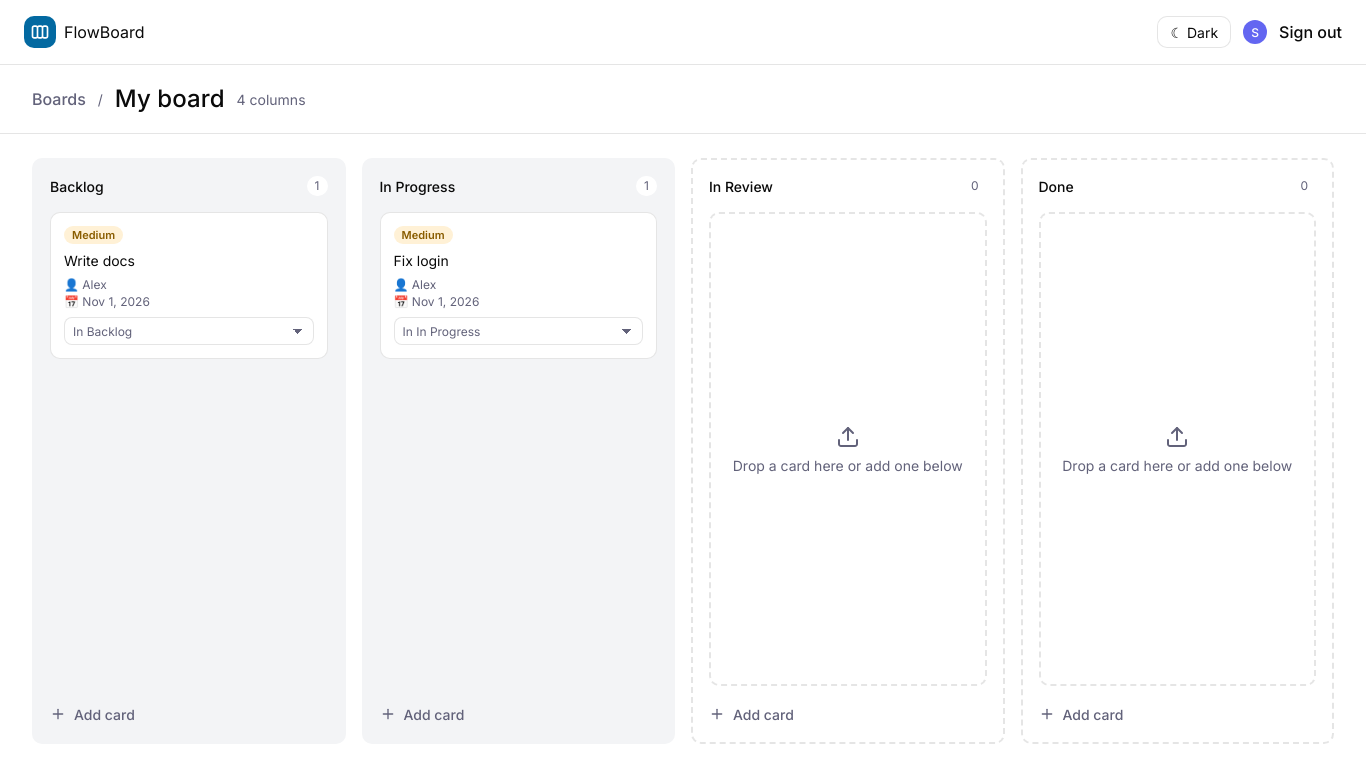
it: board › edits a card
Expected: the heading "My board" is shown, [115,81,225,117]
Click the button "Write docs". click: click(189, 260)
box: [64,252,314,269]
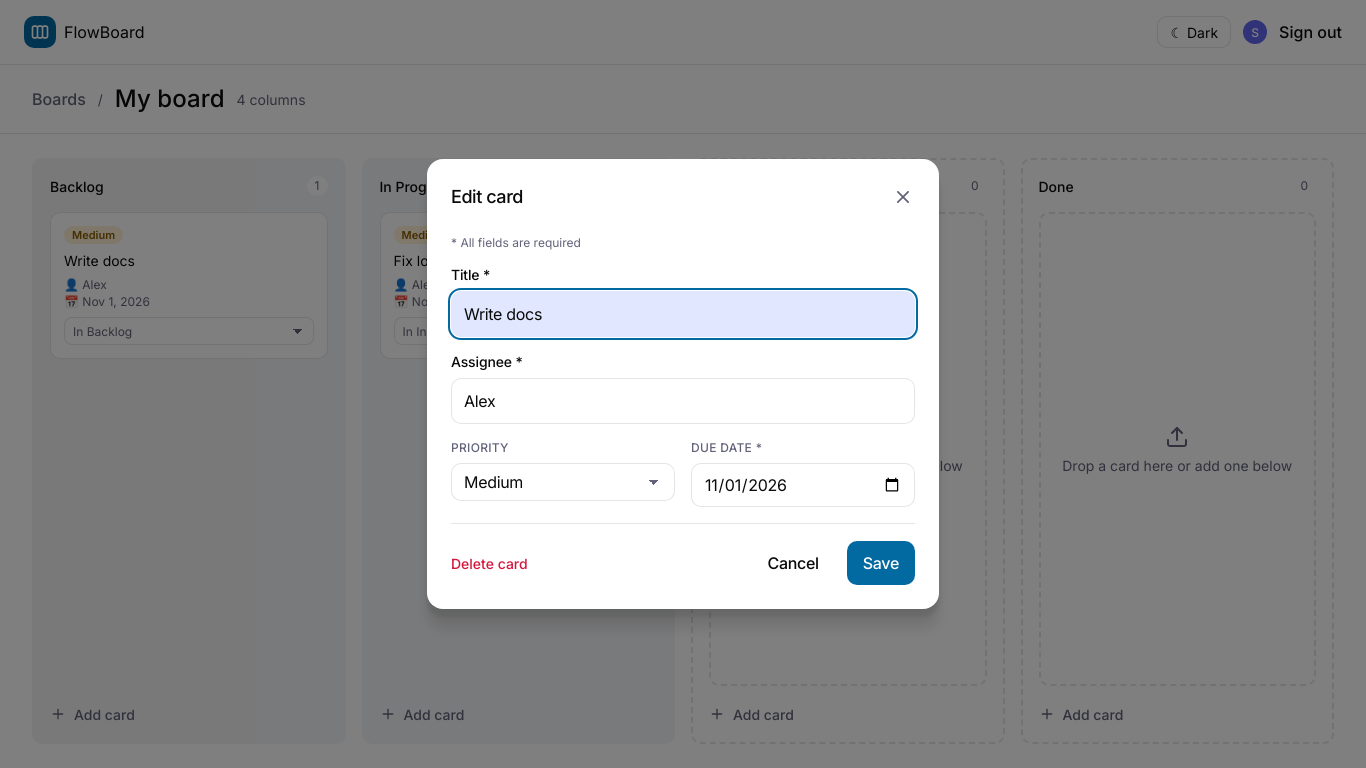
Replace the text in the field labelled "Title *" with "Write better docs". click: (683, 314)
box: [451,291,915,337]
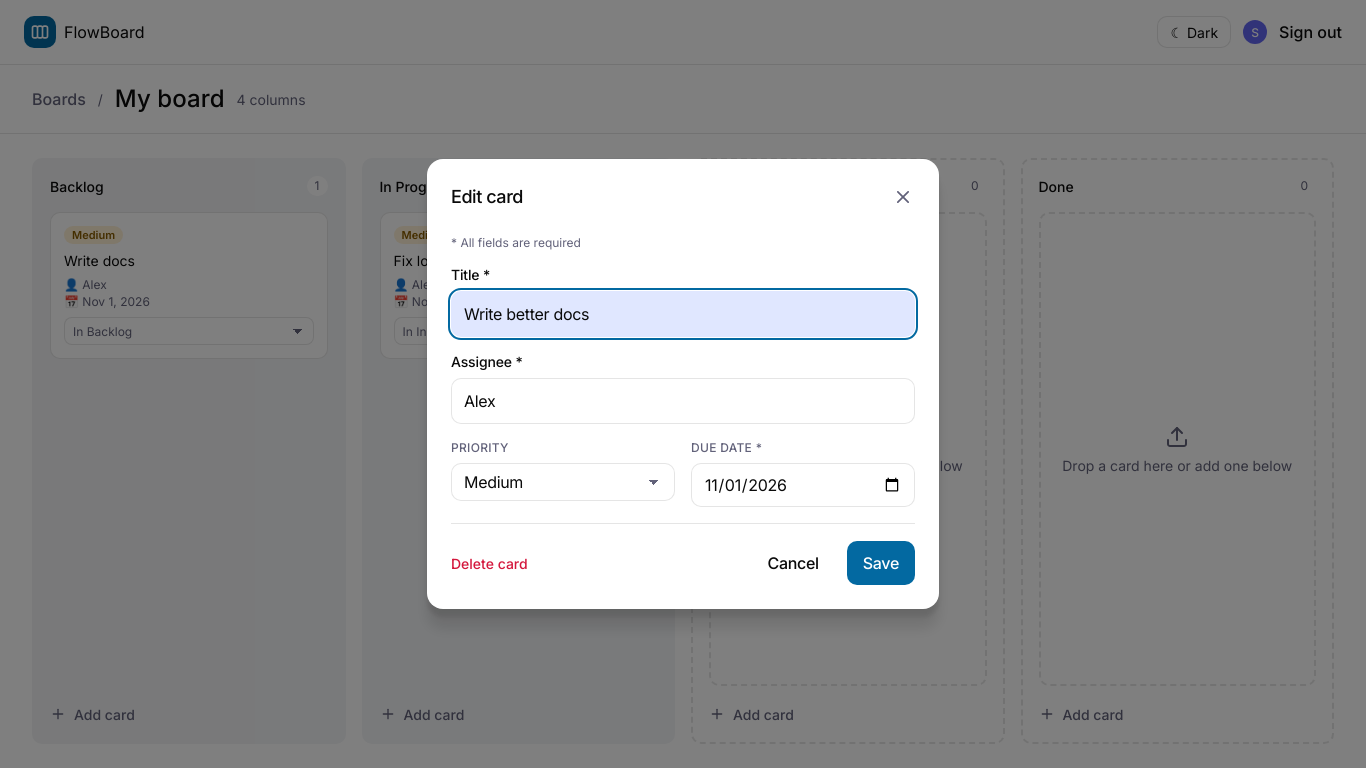
Select "High" in the dropdown labelled "Priority". click: (563, 482)
box: [451,463,675,501]
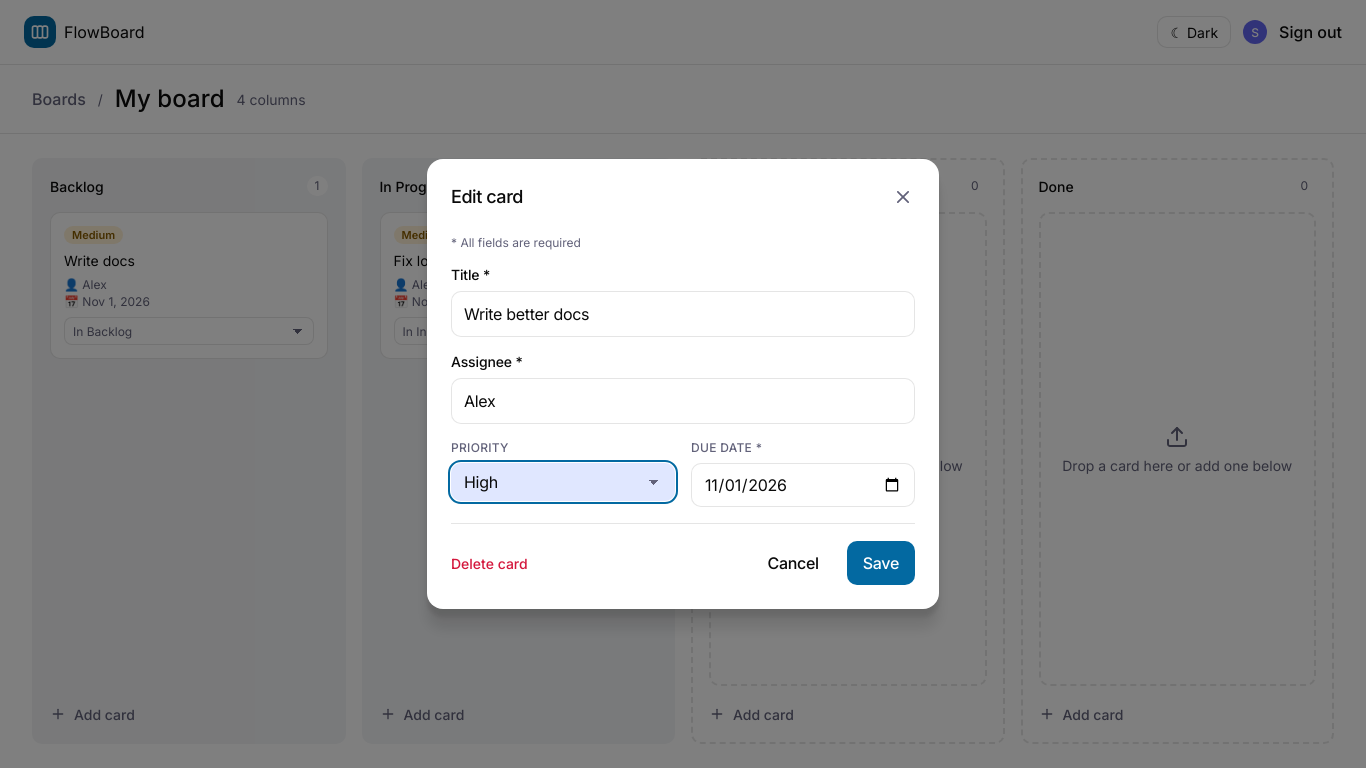
Click the button "Save". click: click(881, 563)
box: [847,541,915,585]
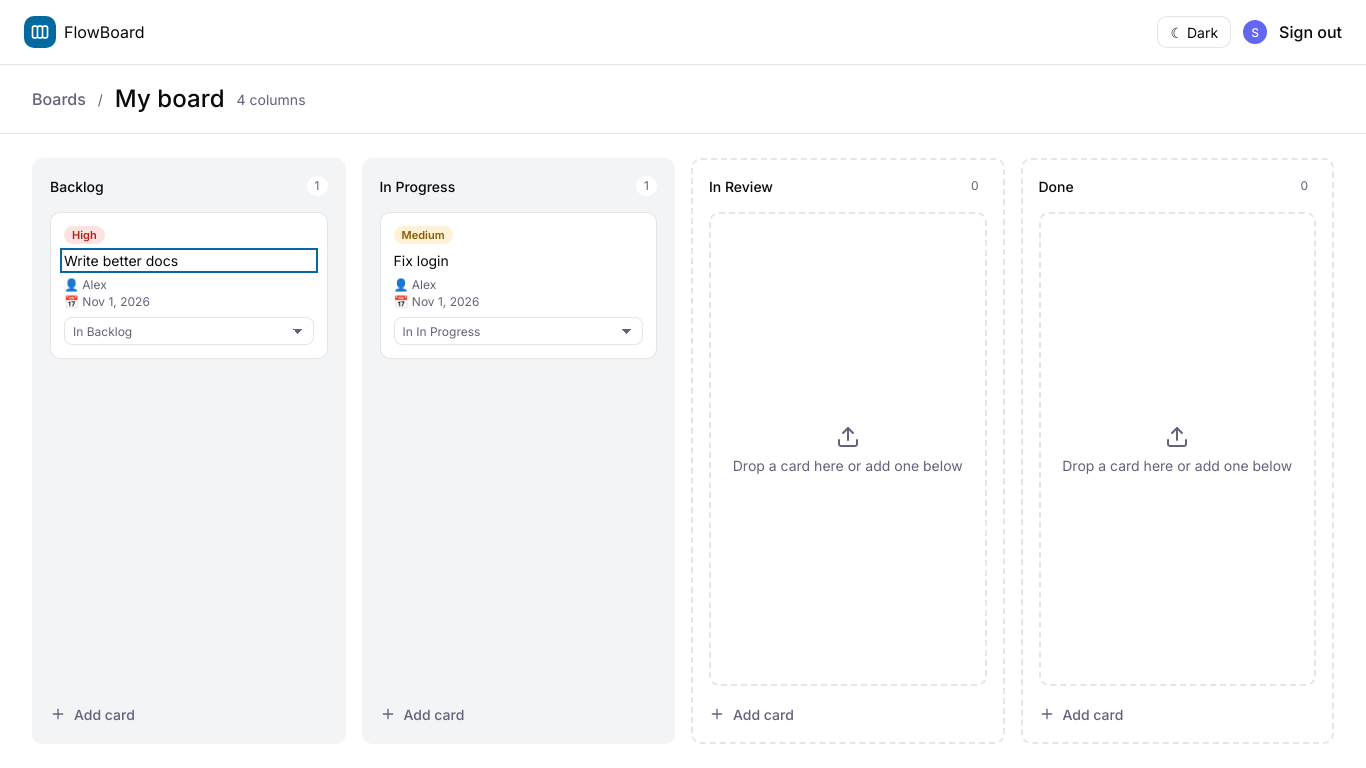
Result: the button "Write better docs" is shown at [64,252,314,269]
Result: the button "Write docs" is gone
